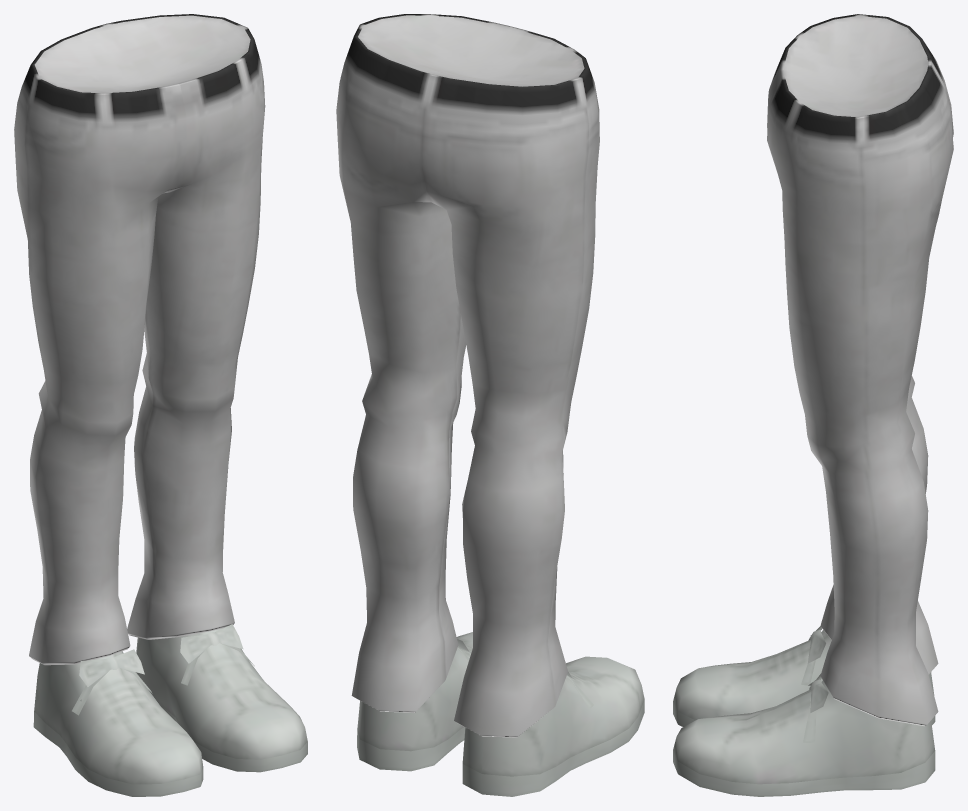
File: tr0860_00_lwb02.gltf
The picture shows the model from 3 angles, left to right: view 1: azimuth 30°, elevation 25°; view 2: azimuth 150°, elevation 25°; view 3: azimuth 270°, elevation 25°; orthographic projection. The views are drawn at different scales.
Visible parts, largest first — view 1: lwb02_lowerbody_mesh_shape:lowerbody02, lwb02_shoes_mesh_shape:lowerbody02; view 2: lwb02_lowerbody_mesh_shape:lowerbody02, lwb02_shoes_mesh_shape:lowerbody02; view 3: lwb02_lowerbody_mesh_shape:lowerbody02, lwb02_shoes_mesh_shape:lowerbody02.
Part boxes in pixels (left/top/right/bottom): lwb02_lowerbody_mesh_shape:lowerbody02: left=14, top=14, right=265, bottom=665; lwb02_shoes_mesh_shape:lowerbody02: left=33, top=624, right=307, bottom=796; lwb02_lowerbody_mesh_shape:lowerbody02: left=336, top=14, right=599, bottom=737; lwb02_shoes_mesh_shape:lowerbody02: left=357, top=632, right=644, bottom=796; lwb02_lowerbody_mesh_shape:lowerbody02: left=767, top=14, right=953, bottom=726; lwb02_shoes_mesh_shape:lowerbody02: left=673, top=626, right=935, bottom=796.
Size of what is drawn, in the model's own units: 0.3325 by 0.9331 by 0.3476.
Materials: 1 (1 with a texture image).
